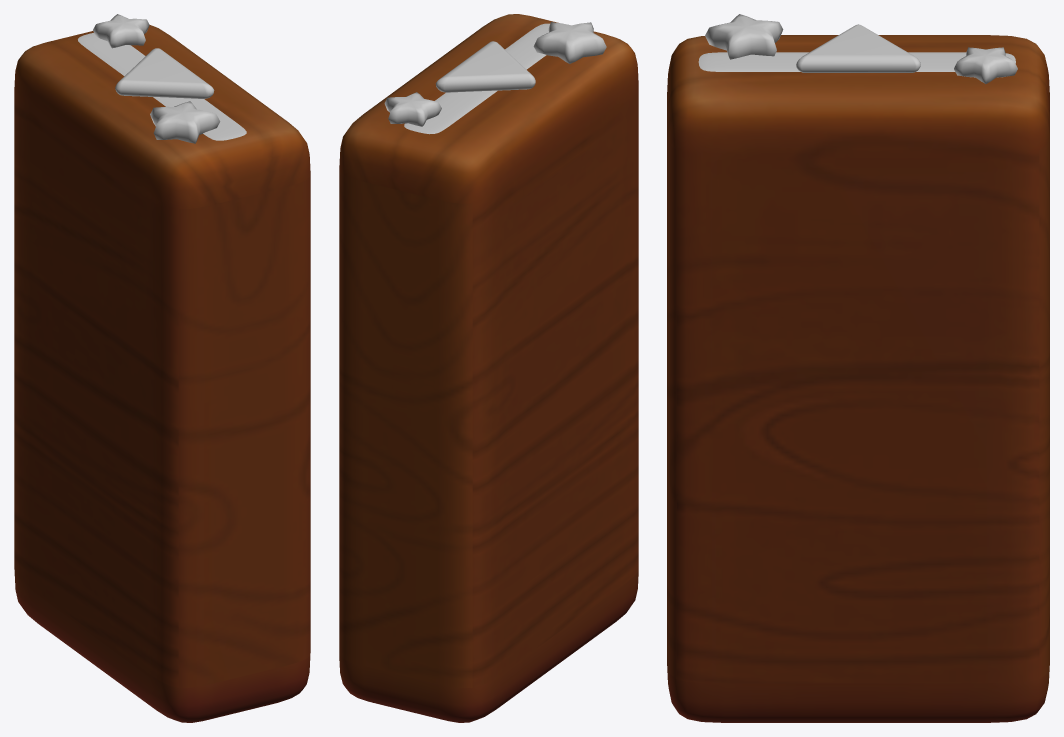
File: wall_1.fbx
The picture shows the model from 3 angles, left to right: view 1: azimuth 30°, elevation 25°; view 2: azimuth 150°, elevation 25°; view 3: azimuth 270°, elevation 25°; orthographic projection. The views are drawn at different scales.
Visible parts, largest first — view 1: wall_1, stars, triangle, lego_point; view 2: wall_1, stars, triangle, lego_point; view 3: wall_1, stars, triangle, lego_point.
Part boxes in pixels (bbox=[...]): wall_1: bbox=[14, 25, 310, 722]; stars: bbox=[93, 14, 220, 143]; triangle: bbox=[115, 48, 214, 98]; lego_point: bbox=[78, 33, 246, 140]; wall_1: bbox=[339, 14, 638, 722]; stars: bbox=[384, 22, 606, 126]; triangle: bbox=[435, 41, 535, 92]; lego_point: bbox=[404, 23, 549, 134]; wall_1: bbox=[667, 35, 1049, 722]; stars: bbox=[705, 14, 1017, 83]; triangle: bbox=[796, 24, 920, 72]; lego_point: bbox=[698, 52, 1015, 71].
Size of the model in its own units: 0.5 by 1.92 by 1.02.
